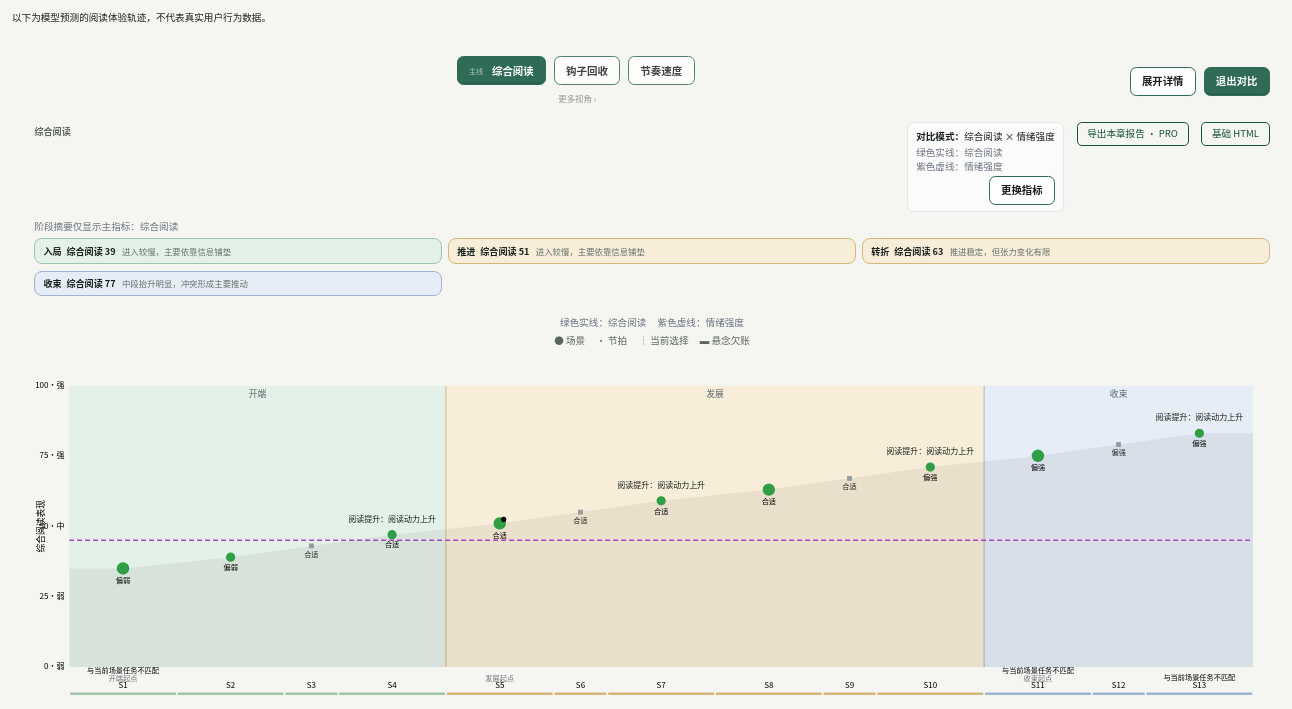
Test: 对比分析 mode + unified topbar › restores compare from URL and exits via topbar exit control
Click the button with test id "journey-comparison-exit".
click(1237, 81)  # box [1204, 67, 1270, 96]
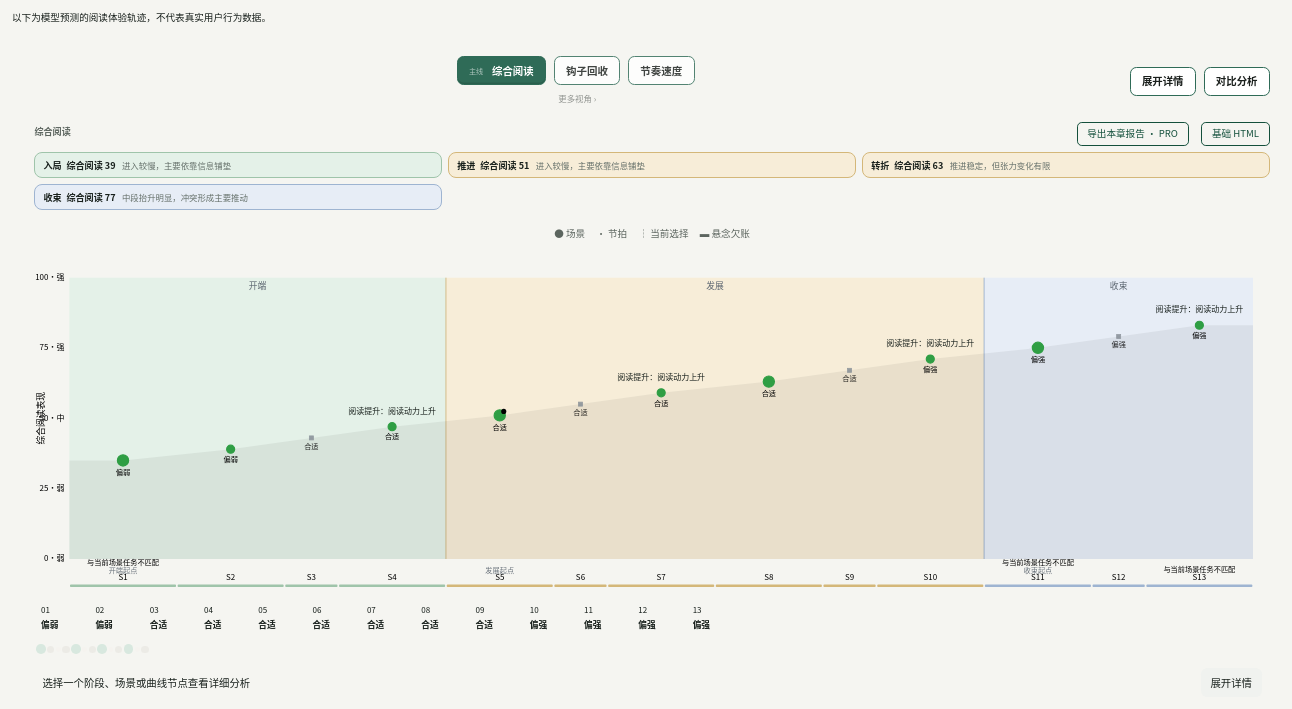
Check: the message with test id "journey-comparison-toolbar" is gone
